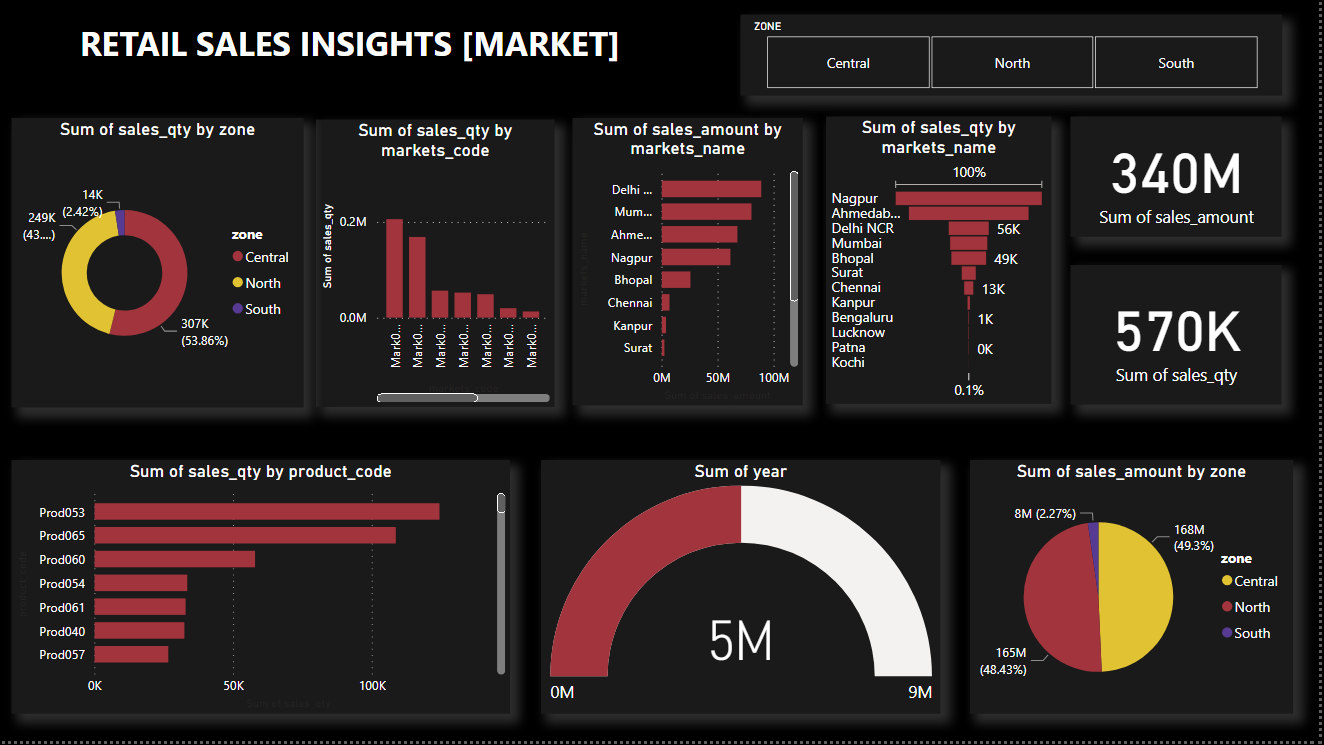

The page's visual inventory and layout, read from the dashboard file:
{"tool":"powerbi","page":{"name":"Market","canvas":[1280,720],"ordinal":1},"visuals":[{"type":"clusteredColumnChart","fields":{"Category":["Markets.markets_code"],"Y":["Sum(Transactions.sales_qty)"]},"box":[308.7,118.1,231.5,278.8],"z":0},{"type":"barChart","fields":{"Category":["Markets.markets_name"],"Y":["Sum(Transactions.sales_amount)"]},"box":[557.6,116.6,223.7,278.8],"z":1},{"type":"funnel","fields":{"Category":["Markets.markets_name"],"Y":["Sum(Transactions.sales_qty)"]},"box":[803.3,115,218.9,278.8],"z":2},{"type":"donutChart","fields":{"Y":["Sum(Transactions.sales_qty)"],"Category":["Markets.zone"]},"box":[12.6,116.6,283.5,280.4],"z":3},{"type":"card","fields":{"Values":["Sum(Transactions.sales_amount)"]},"box":[1039.6,115,204.8,116.6],"z":4},{"type":"card","fields":{"Values":["Sum(Transactions.sales_qty)"]},"box":[1039.6,258.3,204.8,135.5],"z":5},{"type":"pieChart","fields":{"Category":["Markets.zone"],"Y":["Sum(Transactions.sales_amount)"]},"box":[941.9,447.3,313.4,245.7],"z":6},{"type":"gauge","fields":{"Y":["Sum(date_table.year)"]},"box":[526.1,447.3,387.5,245.7],"z":7},{"type":"barChart","fields":{"Y":["Sum(Transactions.sales_qty)"],"Category":["Transactions.product_code"]},"box":[12.6,447.3,483.6,245.7],"z":8},{"type":"slicer","fields":{"Values":["Markets.zone"]},"box":[720,16,525.1,78.5],"z":9},{"type":"textbox","box":[12.6,15.8,656.8,78.8],"z":10}]}

Visuals, with their boxes in screenshot pixels (x1, y1, x2, y2), scaled from the page's 1280x720 canvas onto the 1324x745 screenshot:
clusteredColumnChart - Markets.markets_code x Sum(Transactions.sales_qty): <box>319,122,559,411</box>
barChart - Markets.markets_name x Sum(Transactions.sales_amount): <box>577,121,808,409</box>
funnel - Markets.markets_name x Sum(Transactions.sales_qty): <box>831,119,1057,407</box>
donutChart - Sum(Transactions.sales_qty) x Markets.zone: <box>13,121,306,411</box>
card - Sum(Transactions.sales_amount): <box>1075,119,1287,240</box>
card - Sum(Transactions.sales_qty): <box>1075,267,1287,407</box>
pieChart - Markets.zone x Sum(Transactions.sales_amount): <box>974,463,1298,717</box>
gauge - Sum(date_table.year): <box>544,463,945,717</box>
barChart - Sum(Transactions.sales_qty) x Transactions.product_code: <box>13,463,513,717</box>
slicer - Markets.zone: <box>745,17,1288,98</box>
textbox: <box>13,16,692,98</box>
